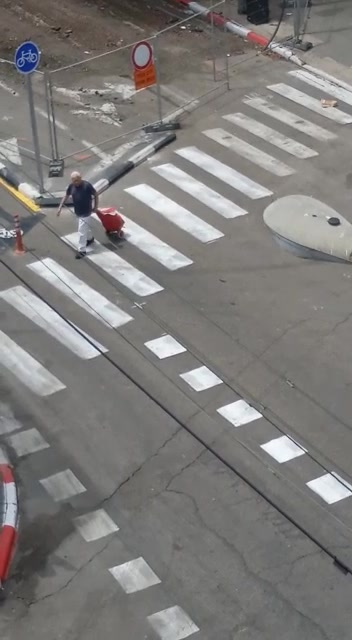crosswalk: (63, 68, 297, 307)
person: (43, 165, 131, 266)
